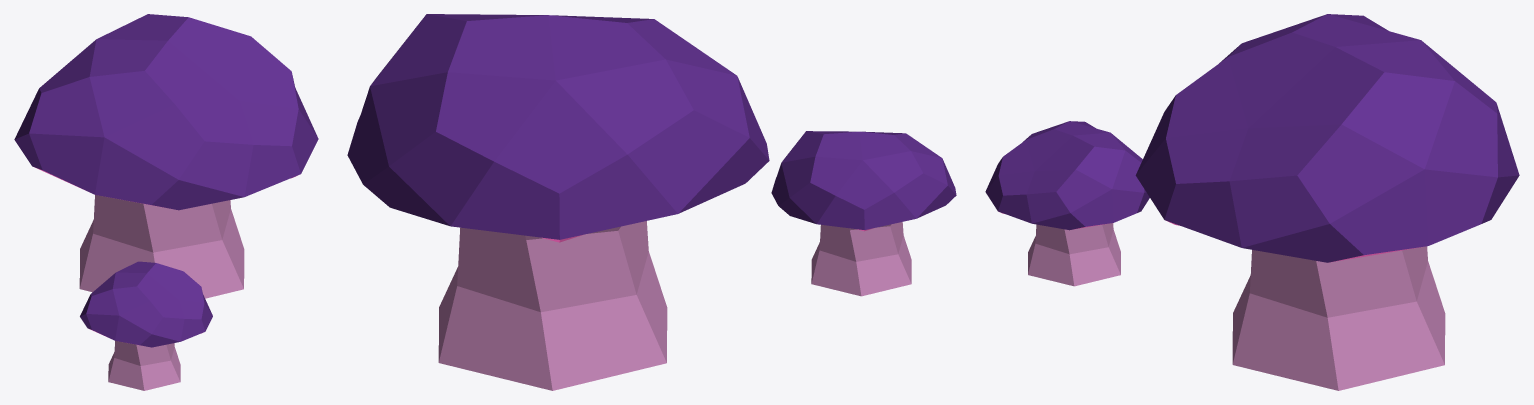
File: Mushroom_Grass_01.fbx
3 views of the same model, side by side, from view 1: azimuth 30°, elevation 25°; view 2: azimuth 150°, elevation 25°; view 3: azimuth 270°, elevation 25° (orthographic). The views are drawn at different scales.
Visible parts, largest first — view 1: Vege_Grass_01; view 2: Vege_Grass_01; view 3: Vege_Grass_01.
Part boxes in pixels (bbox=[...]): Vege_Grass_01: bbox=[14, 14, 318, 390]; Vege_Grass_01: bbox=[347, 14, 956, 390]; Vege_Grass_01: bbox=[985, 14, 1519, 390].
Bounding box in the file's own units: 93.98 × 65.93 × 108.
